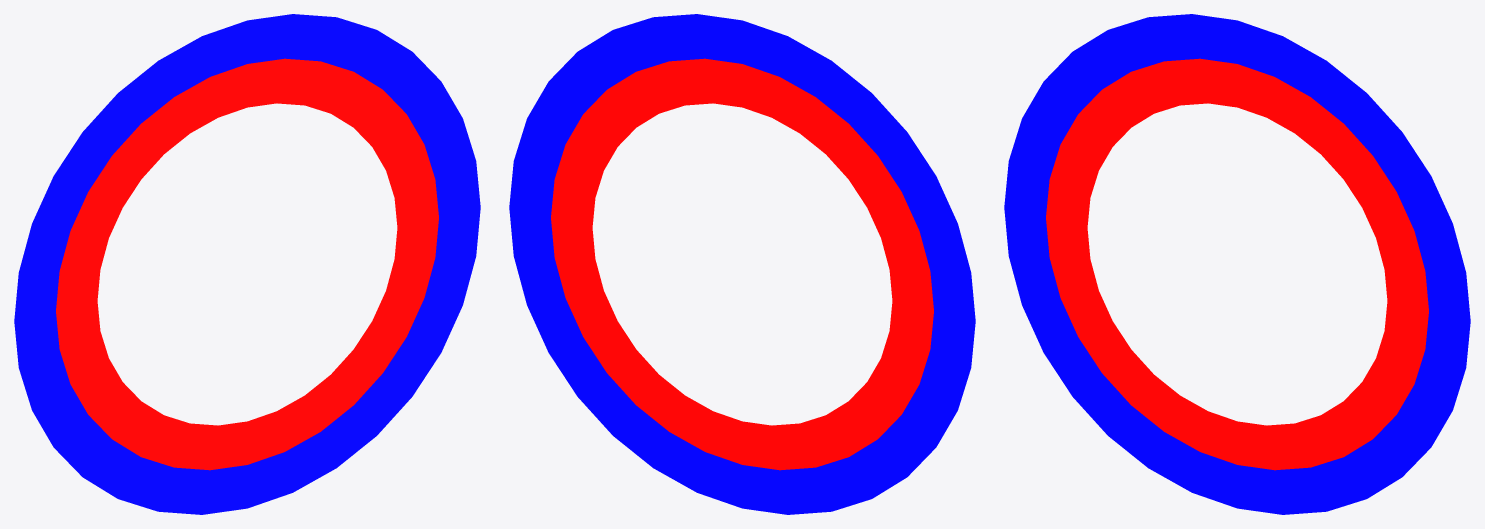
The model's file is ts_emission.dae.
The picture shows the model from 3 angles, left to right: view 1: azimuth 30°, elevation 25°; view 2: azimuth 150°, elevation 25°; view 3: azimuth 330°, elevation 25°; orthographic projection.
Bounding box in the file's own units: 56 × 56 × 0.
